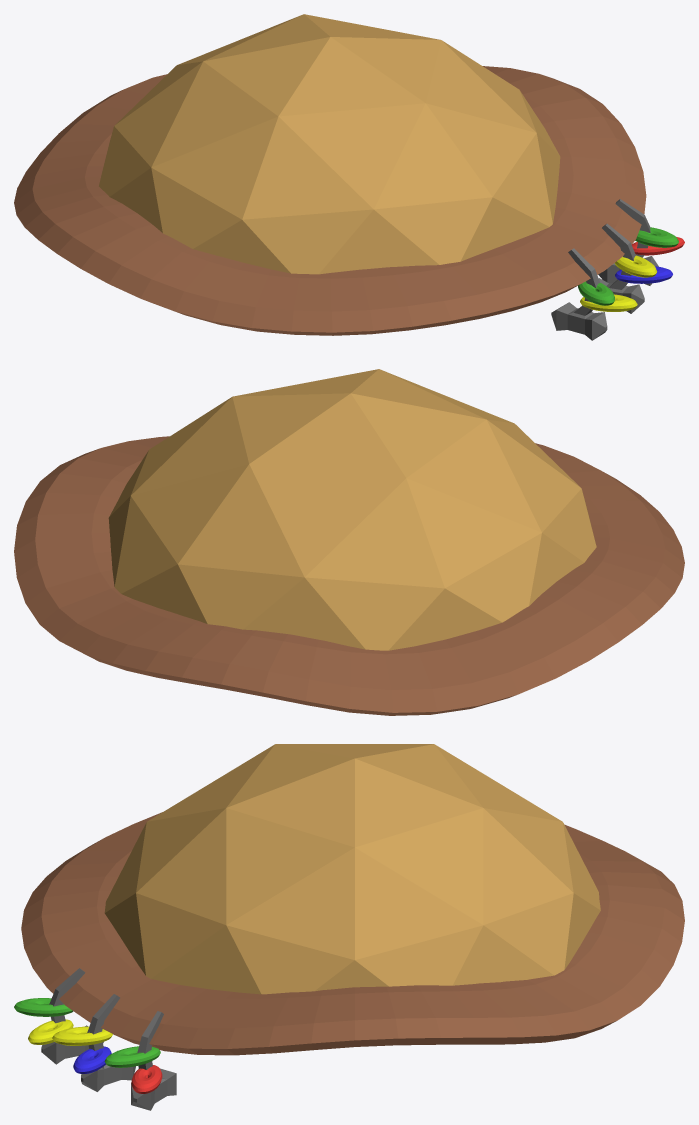
File: FisherHat.fbx
3 renders of one model, top to bottom at view 1: azimuth 30°, elevation 25°; view 2: azimuth 150°, elevation 25°; view 3: azimuth 270°, elevation 25°, orthographic. The views are drawn at different scales.
Parts seen in each view (by area): view 1: Icosphere.001, Torus.004, Torus.003, Torus.002, Torus.001; view 2: Icosphere.001, Torus.004; view 3: Icosphere.001, Torus.004, Torus.002, Torus.001, Torus.003.
Part boxes in pixels (bbox=[...]): Icosphere.001: bbox=[99, 14, 560, 274]; Torus.004: bbox=[14, 66, 646, 335]; Torus.003: bbox=[551, 248, 637, 340]; Torus.002: bbox=[598, 223, 672, 313]; Torus.001: bbox=[598, 199, 684, 285]; Icosphere.001: bbox=[108, 369, 596, 650]; Torus.004: bbox=[14, 436, 684, 715]; Icosphere.001: bbox=[104, 744, 600, 994]; Torus.004: bbox=[21, 812, 684, 1055]; Torus.002: bbox=[52, 994, 135, 1091]; Torus.001: bbox=[104, 1011, 176, 1110]; Torus.003: bbox=[14, 968, 103, 1064].
Bounding box in the file's own units: 224 × 88.18 × 225.
